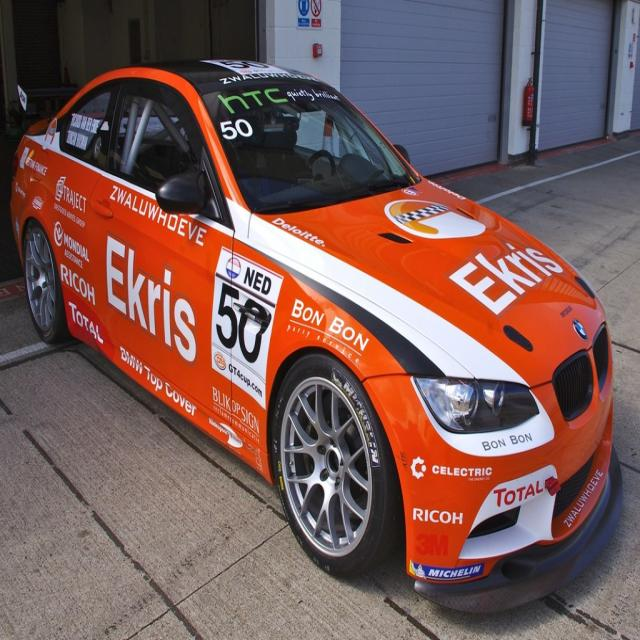car: (6, 58, 627, 615)
